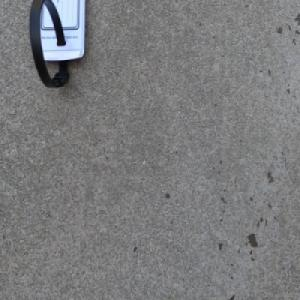LuggageTag: (27, 0, 86, 93)
